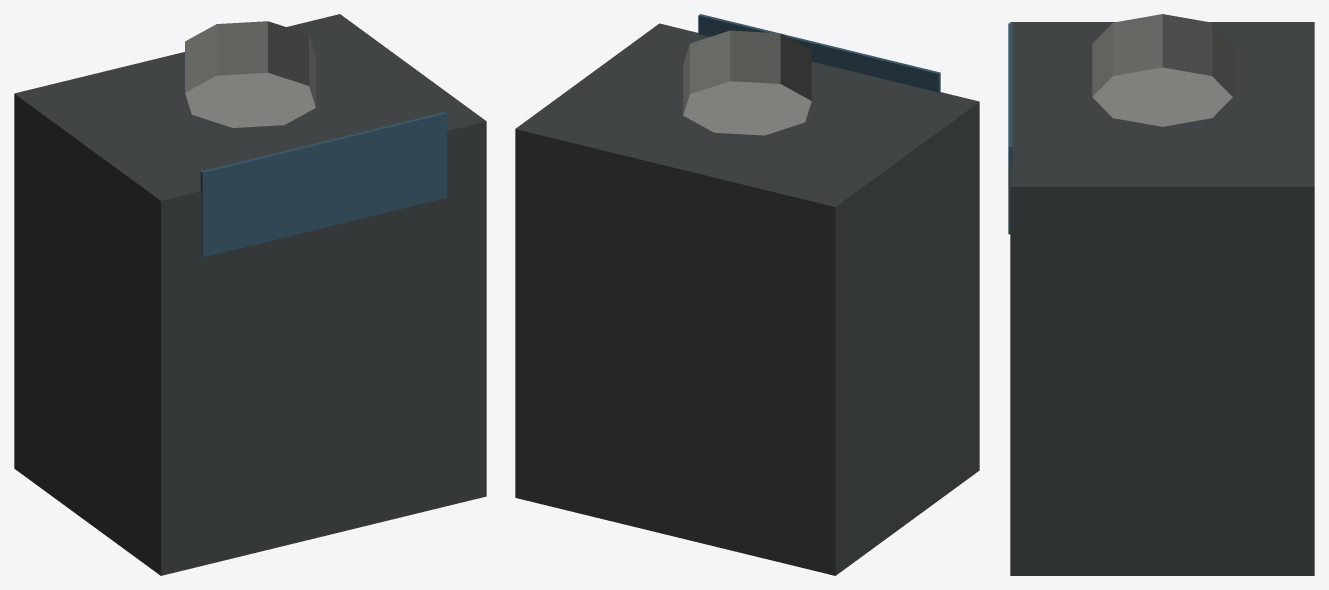
Rendered from allotment_shed.glb.
The picture shows the model from 3 angles, left to right: view 1: azimuth 30°, elevation 25°; view 2: azimuth 150°, elevation 25°; view 3: azimuth 270°, elevation 25°; orthographic projection. The views are drawn at different scales.
Visible parts, largest first — view 1: body; view 2: body; view 3: body.
Boxes of the visible parts, x1,y1,x2,y2 form: body: (14, 14, 486, 575); body: (515, 14, 979, 575); body: (1008, 14, 1314, 575).
Size of the model in its own units: 1.6 by 2.03 by 1.26.
Materials: 1 (1 with a texture image).
